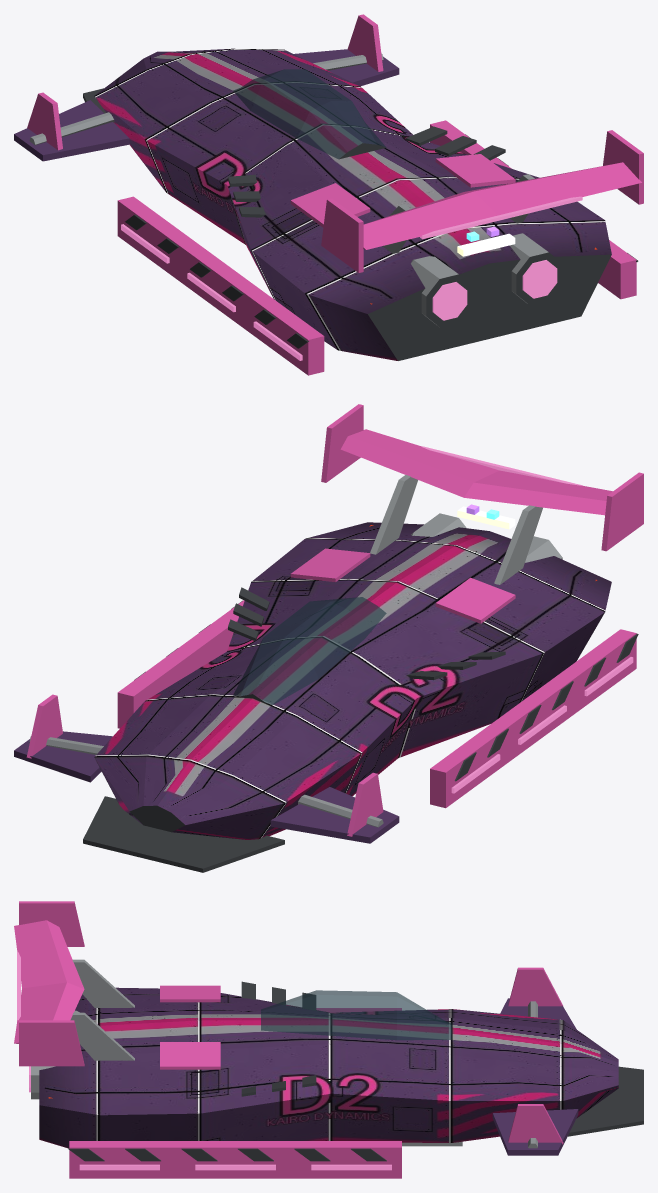
Rendered from sidewinder.glb.
The picture shows the model from 3 angles, top to bottom: view 1: azimuth 30°, elevation 25°; view 2: azimuth 150°, elevation 25°; view 3: azimuth 270°, elevation 25°; orthographic projection. The views are drawn at different scales.
Parts seen in each view (by area): view 1: body_static, elevon_L_body, airbrake_R_body, airbrake_L_body, elevon_R_body, steering_fin_L_body, steering_fin_R_body; view 2: body_static, elevon_L_body, airbrake_L_body, elevon_R_body, airbrake_R_body, steering_fin_L_body, steering_fin_R_body; view 3: body_static, elevon_R_body, elevon_L_body, airbrake_R_body, steering_fin_L_body, steering_fin_R_body, airbrake_L_body.
Part boxes in pixels (box(x1,y1,x2,y2)): body_static: box(14, 48, 641, 375); elevon_L_body: box(321, 198, 363, 272); airbrake_R_body: box(435, 154, 515, 187); airbrake_L_body: box(290, 183, 370, 227); elevon_R_body: box(603, 130, 643, 204); steering_fin_L_body: box(27, 92, 62, 150); steering_fin_R_body: box(347, 14, 383, 71); body_static: box(14, 429, 638, 872); elevon_L_body: box(601, 472, 643, 551); airbrake_L_body: box(435, 577, 515, 623); elevon_R_body: box(321, 404, 363, 482); airbrake_R_body: box(290, 548, 370, 582); steering_fin_L_body: box(347, 772, 383, 836); steering_fin_R_body: box(26, 694, 62, 758); body_static: box(14, 920, 643, 1178); elevon_R_body: box(19, 1020, 84, 1066); elevon_L_body: box(19, 901, 84, 946); airbrake_R_body: box(160, 1042, 220, 1069); steering_fin_L_body: box(508, 967, 563, 1006); steering_fin_R_body: box(508, 1104, 563, 1144); airbrake_L_body: box(160, 985, 220, 1002).
Size of the model in its own units: 3.56 by 1.72 by 6.25.
Materials: 10 (2 with a texture image).
